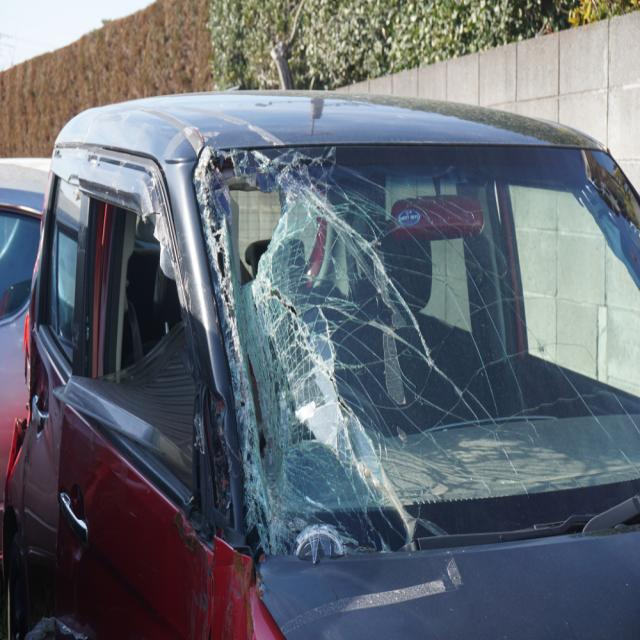Windshield: (193, 138, 427, 566)
